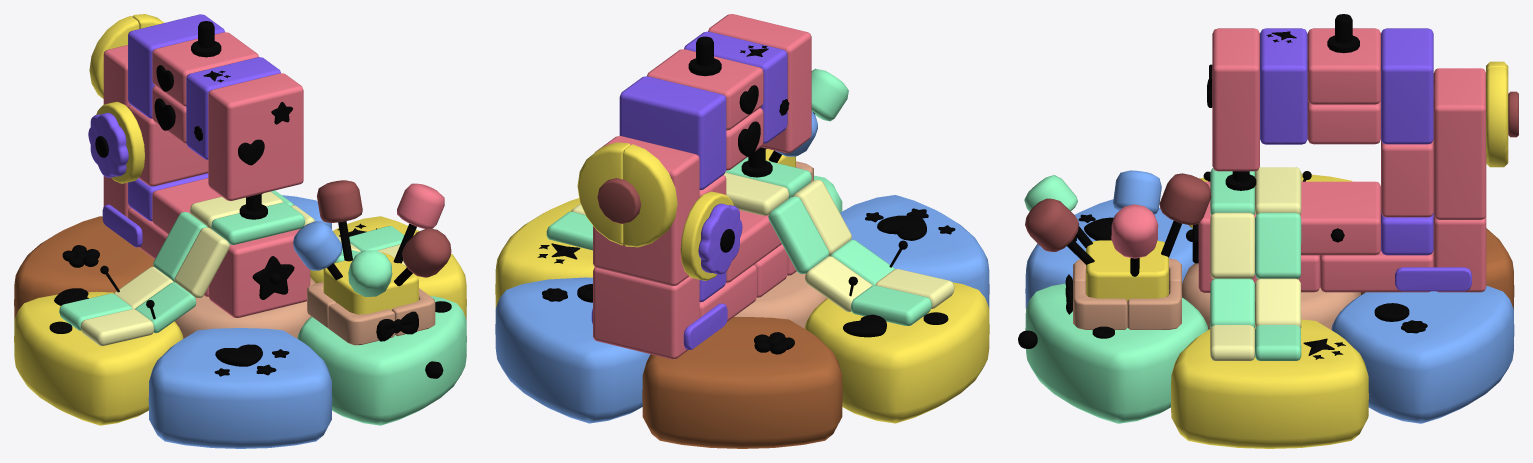
The model's file is SewingMachine.fbx.
3 renders of one model, left to right at view 1: azimuth 30°, elevation 25°; view 2: azimuth 150°, elevation 25°; view 3: azimuth 270°, elevation 25°, orthographic. The views are drawn at different scales.
Visible parts, largest first — view 1: M_SewingMachine, S_SewingMachine_9, S_SewingMachine_3, S_SewingMachine_25, S_SewingMachine_18, S_SewingMachine_4, S_SewingMachine_20, S_SewingMachine_19, S_SewingMachine_2, S_SewingMachine_24, S_SewingMachine_1, S_SewingMachine_10 (+8 smaller); view 2: M_SewingMachine, S_SewingMachine_4, S_SewingMachine_24, S_SewingMachine_18, S_SewingMachine_3, S_SewingMachine_1, S_SewingMachine_19, S_SewingMachine_10, S_SewingMachine_25, S_SewingMachine_2, S_SewingMachine_26, S_SewingMachine_9 (+5 smaller); view 3: M_SewingMachine, S_SewingMachine_11, S_SewingMachine_12, S_SewingMachine_15, S_SewingMachine_10, S_SewingMachine_16, S_SewingMachine_23, S_SewingMachine_22, S_SewingMachine_26, S_SewingMachine_27, S_SewingMachine_9, D_SewingMachine19 (+2 smaller).
Boxes of the visible parts, x1,y1,x2,y2 form: M_SewingMachine: (14, 14, 466, 448); S_SewingMachine_9: (211, 202, 305, 244); S_SewingMachine_3: (174, 227, 229, 298); S_SewingMachine_25: (80, 309, 153, 345); S_SewingMachine_18: (88, 112, 128, 177); S_SewingMachine_4: (153, 212, 207, 282); S_SewingMachine_20: (328, 303, 394, 345); S_SewingMachine_19: (96, 102, 144, 183); S_SewingMachine_2: (135, 282, 196, 333); S_SewingMachine_24: (59, 293, 132, 330); S_SewingMachine_1: (113, 266, 173, 309); S_SewingMachine_10: (190, 191, 283, 229); M_SewingMachine: (495, 14, 989, 448); S_SewingMachine_4: (768, 196, 829, 273); S_SewingMachine_24: (851, 285, 931, 325); S_SewingMachine_18: (698, 203, 742, 274); S_SewingMachine_3: (793, 180, 851, 256); S_SewingMachine_1: (805, 256, 872, 312); S_SewingMachine_19: (680, 191, 733, 280); S_SewingMachine_10: (724, 172, 789, 215); S_SewingMachine_25: (875, 269, 954, 308); S_SewingMachine_2: (830, 239, 895, 285); S_SewingMachine_26: (546, 211, 592, 250); S_SewingMachine_9: (725, 157, 811, 198); M_SewingMachine: (1024, 28, 1518, 448); S_SewingMachine_11: (1255, 212, 1301, 278); S_SewingMachine_12: (1210, 212, 1254, 278); S_SewingMachine_15: (1255, 278, 1301, 328); S_SewingMachine_10: (1255, 167, 1301, 215); S_SewingMachine_16: (1210, 278, 1254, 328); S_SewingMachine_23: (1127, 281, 1181, 329); S_SewingMachine_22: (1073, 281, 1127, 329); S_SewingMachine_26: (1255, 325, 1301, 360); S_SewingMachine_27: (1210, 325, 1254, 360); S_SewingMachine_9: (1210, 168, 1254, 215); D_SewingMachine19: (1374, 303, 1409, 321).
Size of the model in its own units: 679 by 488 by 667.
